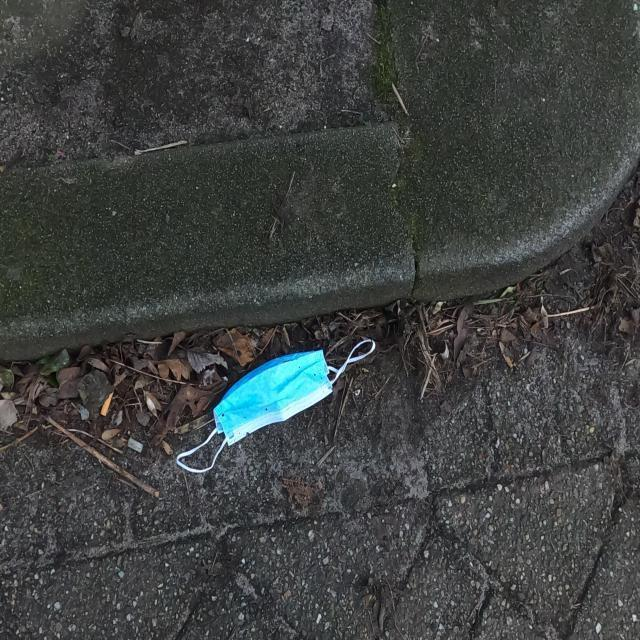Mask: (172, 334, 378, 478)
